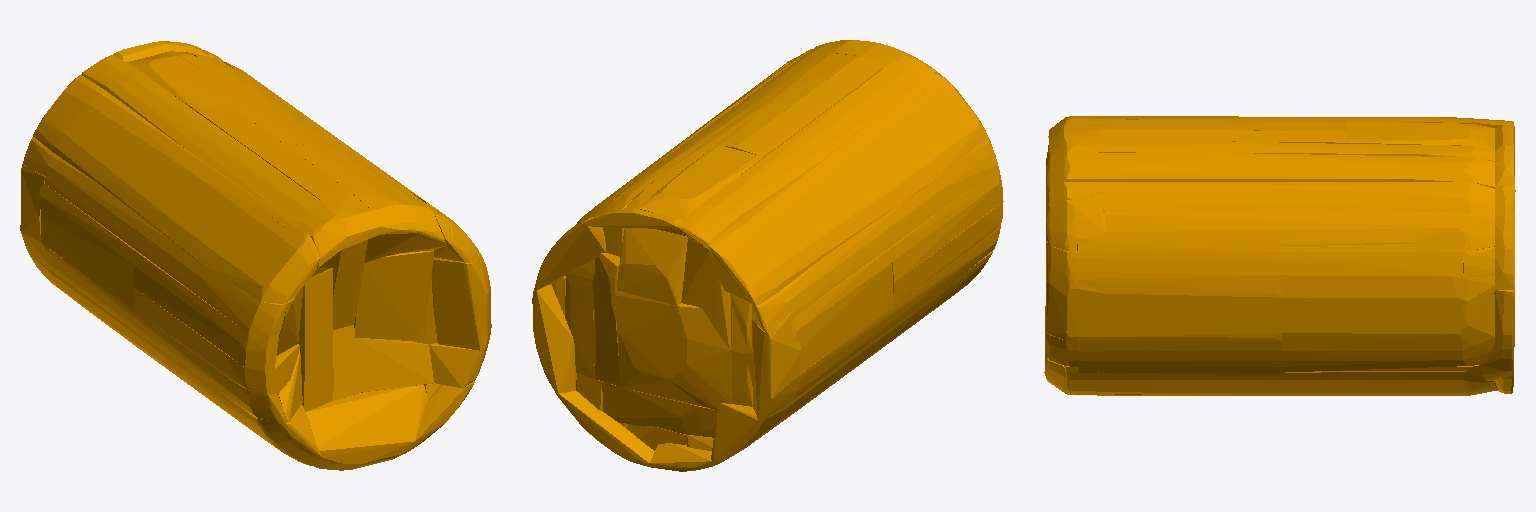
robot.urdf — can-coke:
<?xml version="1.0" ?>
<robot name="can-coke">
  <link name="baseLink">
    <contact>
      <lateral_friction value="1.0"/>
      <inertia_scaling value="3.0"/>
    </contact>
    <inertial>
      <origin rpy="0 0 0" xyz="0.000 0.000 0.000"/>
       <mass value=".1"/>
       <inertia ixx="1" ixy="0.0" ixz="0.0" iyy="1" iyz="0.0" izz="1"/>
    </inertial>
    <visual>
      <origin rpy="0 0 0" xyz="0 0 0"/>
      <geometry>
        <mesh filename="can/can-coke_small.obj" scale="1.0 1.0 1.0"/>
      </geometry>
    </visual>
    <collision>
      <origin rpy="0 0 0" xyz="0 0 0"/>
      <geometry>
        <mesh filename="../collision/can/can-coke_small.obj" scale="1.0 1.0 1.0"/>
      </geometry>
    </collision>
  </link>
</robot>
        

--- Render facts (derived) ---
3 views of the same robot in one strip: view 1: azimuth 30°, elevation 25°; view 2: azimuth 150°, elevation 25°; view 3: azimuth 270°, elevation 25° (orthographic).
Model can-coke with 1 links and 0 joints (none), rooted at baseLink, posed all joints at 0.
Visible links, largest first — view 1: baseLink; view 2: baseLink; view 3: baseLink.
Boxes of the visible links, x1,y1,x2,y2 form: baseLink: [20, 41, 491, 470]; baseLink: [532, 40, 1003, 471]; baseLink: [1044, 116, 1515, 395].
Bounding box of the posed robot: 0.053 × 0.0895 × 0.0532 m (x, y, z).
Meshes: 1 distinct files referenced, 1 mesh visuals loaded (1 OBJ).